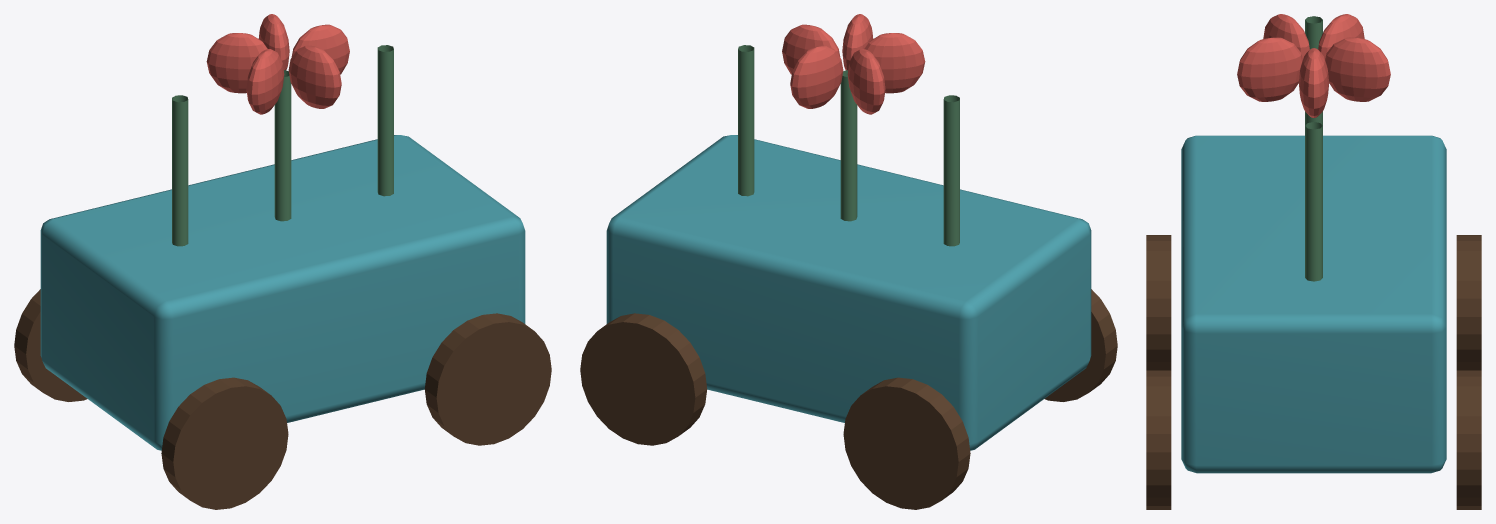
File: netherlands-tulip-cart.glb
3 views of the same model, side by side, from view 1: azimuth 30°, elevation 25°; view 2: azimuth 150°, elevation 25°; view 3: azimuth 270°, elevation 25° (orthographic). The views are drawn at different scales.
Visible parts, largest first — view 1: おはなの くるま, くるまの わ, くるまの わ.002, くるまの わ.001, はなびら.004, くき, くき.002, はなびら.002, くき.001, はなびら.003, はなびら, はなびら.001; view 2: おはなの くるま, くるまの わ.001, くるまの わ.003, くるまの わ, はなびら.001, くき, くき.002, はなびら.003, くき.001, はなびら.002, はなびら, はなびら.004; view 3: おはなの くるま, くるまの わ.002, くるまの わ.003, くるまの わ, くるまの わ.001, はなびら.001, はなびら.004, くき.002, はなびら, はなびら.002, はなびら.003, くき.
Boxes of the visible parts, <box> form: おはなの くるま: <box>40,135,525,450</box>; くるまの わ: <box>161,377,288,509</box>; くるまの わ.002: <box>424,313,551,445</box>; くるまの わ.001: <box>14,289,87,401</box>; はなびら.004: <box>288,45,341,108</box>; くき: <box>172,95,188,246</box>; くき.002: <box>377,45,393,196</box>; はなびら.002: <box>206,33,267,93</box>; くき.001: <box>274,70,291,221</box>; はなびら.003: <box>246,49,284,114</box>; はなびら: <box>291,24,349,74</box>; はなびら.001: <box>258,14,289,70</box>; おはなの くるま: <box>606,135,1091,450</box>; くるまの わ.001: <box>843,377,970,509</box>; くるまの わ.003: <box>580,313,707,445</box>; くるまの わ: <box>1044,289,1117,401</box>; はなびら.001: <box>790,45,843,108</box>; くき: <box>943,95,959,246</box>; くき.002: <box>738,45,754,196</box>; はなびら.003: <box>864,33,925,93</box>; くき.001: <box>840,70,857,221</box>; はなびら.002: <box>847,49,885,114</box>; はなびら: <box>782,24,840,74</box>; はなびら.004: <box>842,14,873,70</box>; おはなの くるま: <box>1181,135,1446,473</box>; くるまの わ.002: <box>1146,370,1171,509</box>; くるまの わ.003: <box>1456,370,1481,509</box>; くるまの わ: <box>1146,235,1171,370</box>; くるまの わ.001: <box>1456,235,1481,370</box>; はなびら.001: <box>1325,37,1390,101</box>; はなびら.004: <box>1237,37,1302,101</box>; くき.002: <box>1305,122,1322,281</box>; はなびら: <box>1298,48,1329,117</box>; はなびら.002: <box>1318,14,1364,59</box>; はなびら.003: <box>1263,14,1309,59</box>; くき: <box>1305,16,1322,49</box>.
Size of the model in its own units: 0.92 by 0.89 by 0.67.
